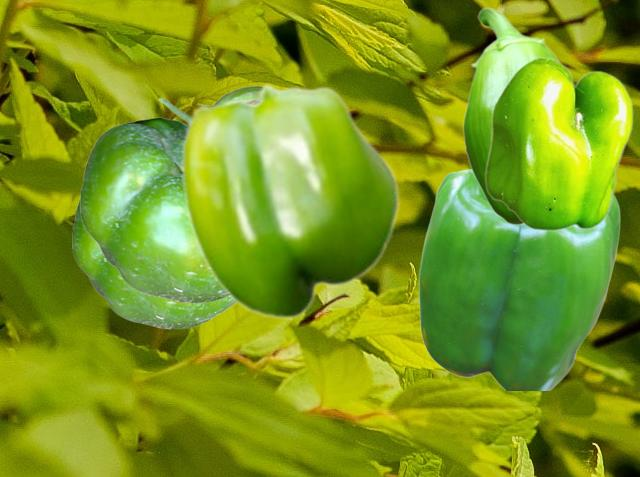bell_pepper: (181, 83, 399, 319), (418, 168, 619, 389), (80, 85, 260, 302), (484, 56, 632, 230), (72, 197, 235, 328), (462, 7, 559, 224)
